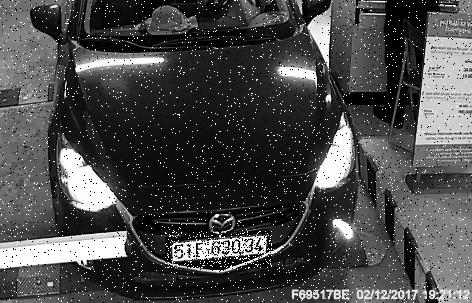License-plate: (167, 232, 274, 269)
